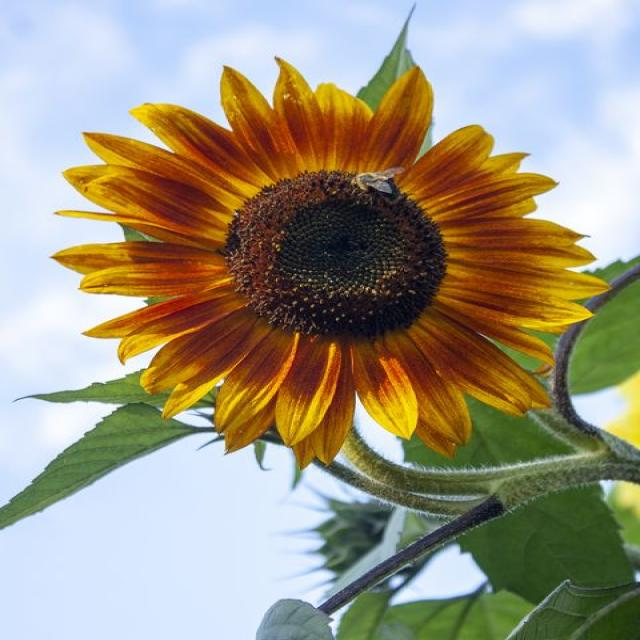sunflower: (53, 46, 595, 483)
